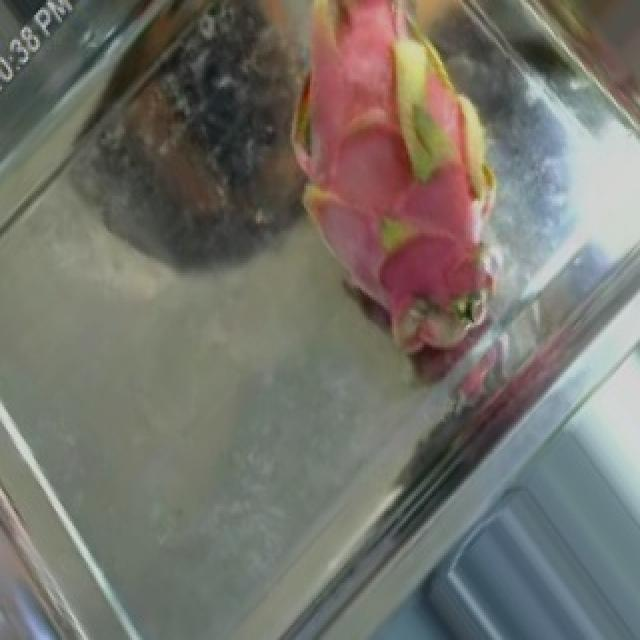fruit: (204, 0, 632, 407)
